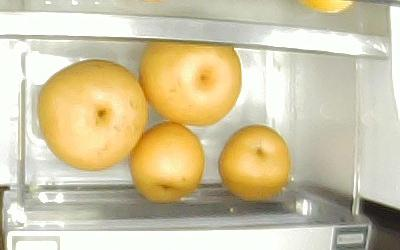pear: (35, 58, 150, 171), (139, 39, 242, 126), (129, 120, 205, 202), (216, 124, 291, 203)
